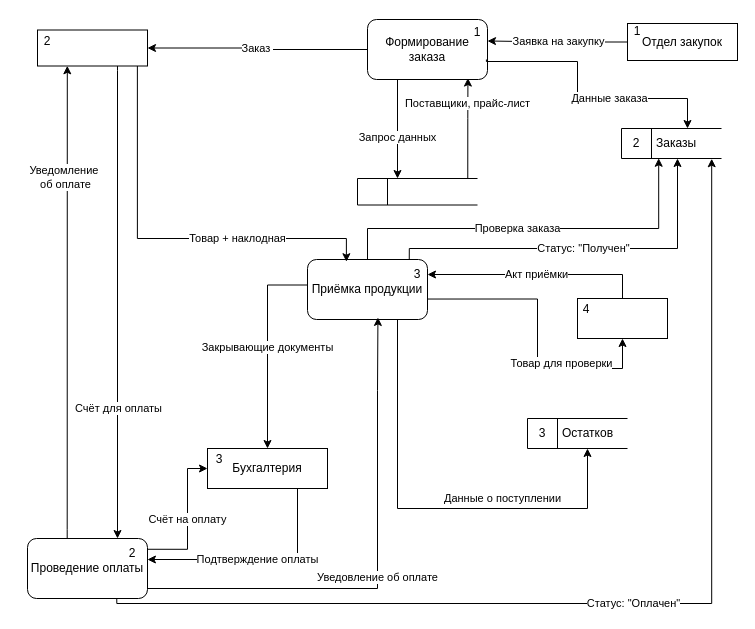
Some shapes in this 755 by 629 pixel diagram are drawn without their labels. Here are the shapes that lost their labels. From the top down, the box of each, then its label:
(36, 29, 148, 66): Поставщик
(356, 178, 478, 205): 1 Поставщики
(576, 298, 668, 338): Склад
